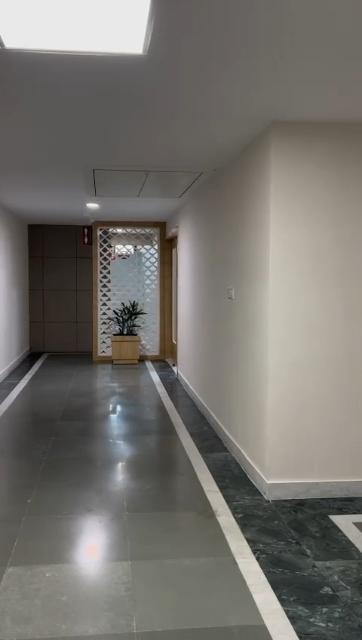door: (163, 244, 178, 362)
floor: (0, 355, 362, 640)
object: (108, 299, 146, 366)
wall: (179, 121, 362, 480), (0, 200, 31, 383)
